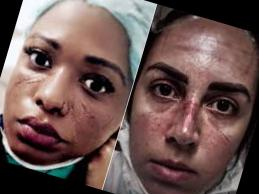mask_weared_incorrect: (112, 54, 259, 194), (1, 31, 125, 184)
